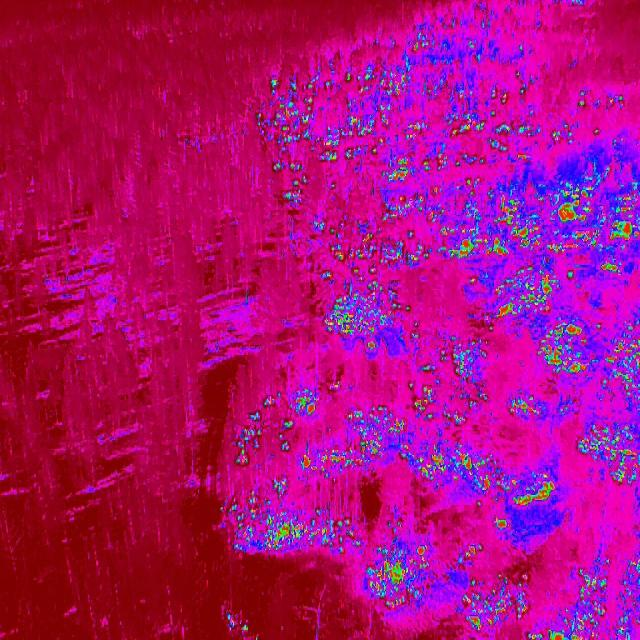fire: (254, 40, 544, 218), (228, 372, 403, 482), (303, 221, 434, 350), (217, 479, 362, 557), (537, 183, 640, 279), (539, 314, 640, 401), (407, 337, 492, 428), (403, 438, 506, 508), (467, 262, 565, 328), (434, 204, 545, 262), (574, 419, 640, 491), (366, 542, 434, 609), (458, 574, 528, 634), (544, 114, 604, 154), (573, 565, 609, 629), (507, 469, 560, 511), (504, 390, 556, 426), (574, 87, 629, 112), (222, 609, 255, 639), (527, 627, 583, 640), (458, 542, 483, 568), (491, 515, 514, 535), (629, 551, 640, 584)
